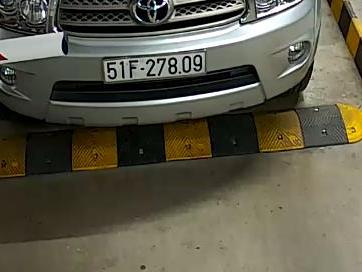car: (103, 49, 207, 85)
